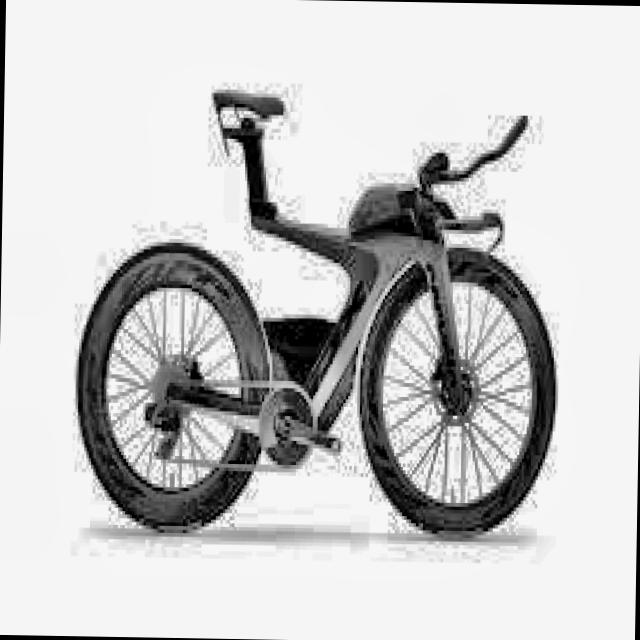bicycle: (70, 70, 568, 548)
